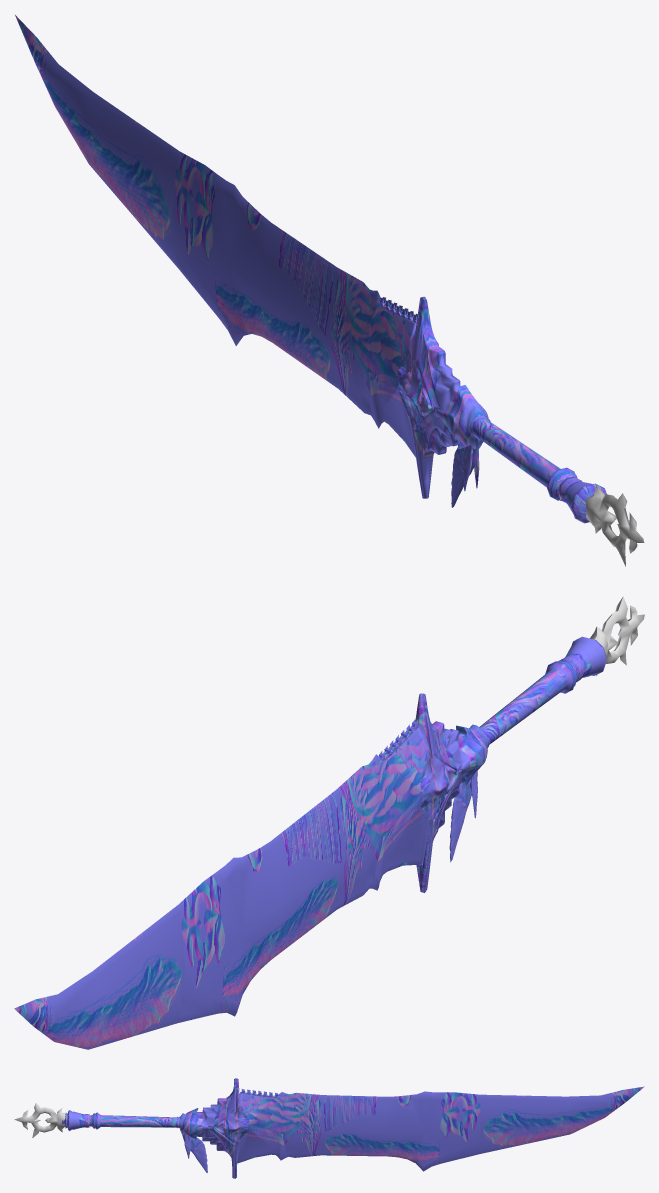
3 renders of one model, top to bottom at view 1: azimuth 30°, elevation 25°; view 2: azimuth 150°, elevation 25°; view 3: azimuth 270°, elevation 25°, orthographic. The views are drawn at different scales.
Parts seen in each view (by area): view 1: Sword_we24_000_basic_00_alb_0, Sword_item_weapon_sword_demon_agile_02_c_0; view 2: Sword_we24_000_basic_00_alb_0, Sword_item_weapon_sword_demon_agile_02_c_0; view 3: Sword_we24_000_basic_00_alb_0, Sword_item_weapon_sword_demon_agile_02_c_0.
Part boxes in pixels (x1,y1,x2,y2): Sword_we24_000_basic_00_alb_0: (15,15,606,523); Sword_item_weapon_sword_demon_agile_02_c_0: (585,484,644,566); Sword_we24_000_basic_00_alb_0: (14,636,606,1049); Sword_item_weapon_sword_demon_agile_02_c_0: (590,596,644,675); Sword_we24_000_basic_00_alb_0: (62,1078,644,1178); Sword_item_weapon_sword_demon_agile_02_c_0: (14,1103,65,1137).
Bounding box in the file's own units: 13.41 × 68.68 × 393.
2 materials, 1 textured.
